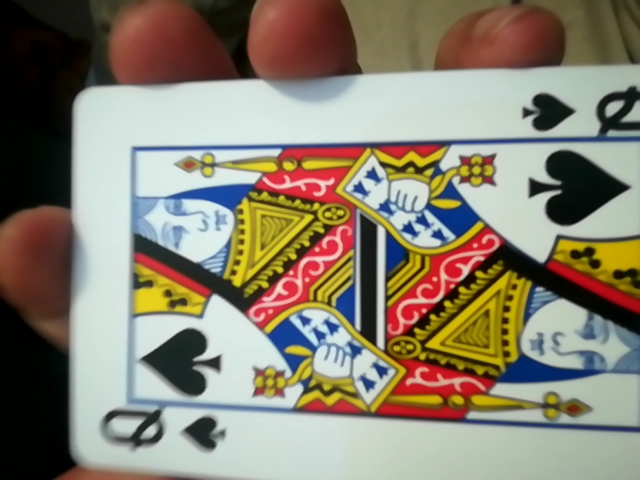ht q: (59, 73, 636, 480)
